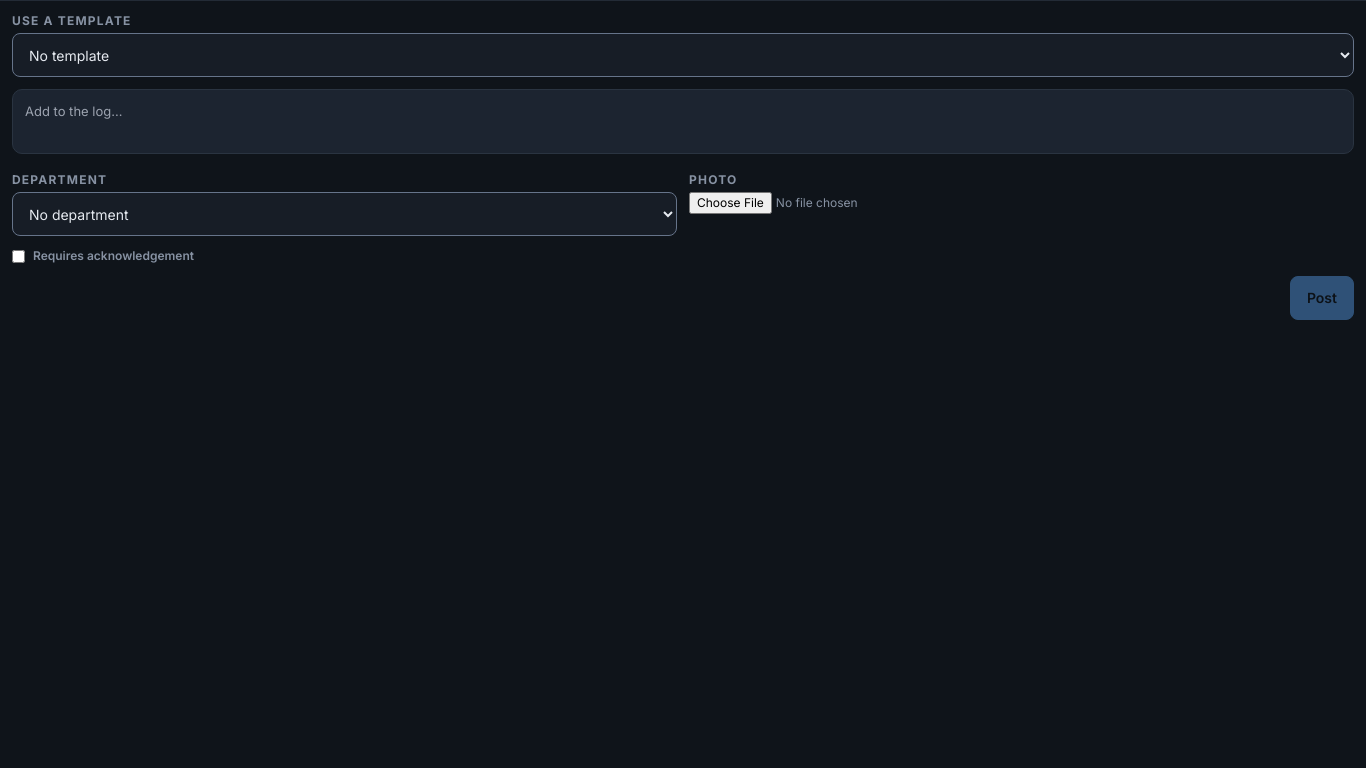
Test: LogComposer with templates › renders each field type once a template is chosen, and clears it again
The image size is (1366, 768).
Select "Night Audit" in the dropdown labelled "Use a template". click: [683, 55]
box: [12,33,1354,77]
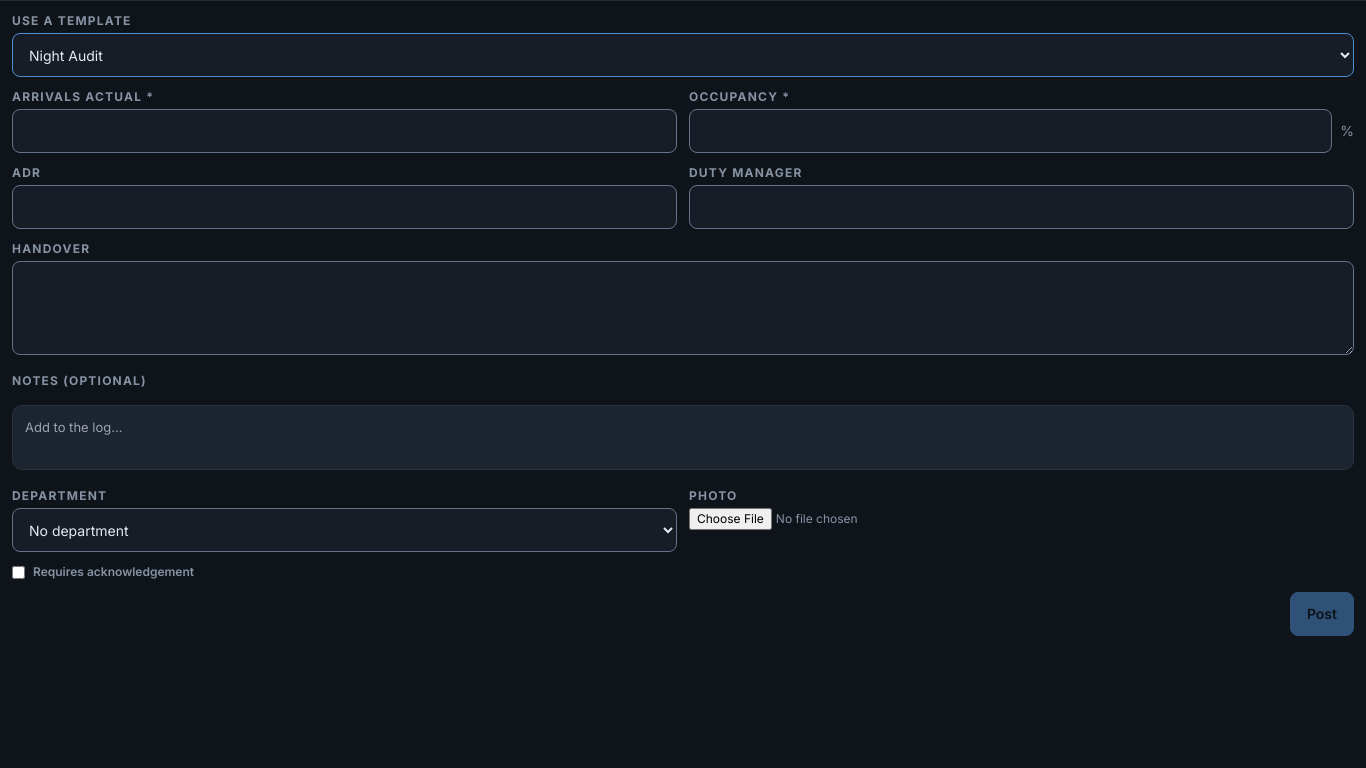
Check: the text "%" is shown, box [1340,121,1354,141]
Select "No template" in the dropdown labelled "Use a template". click: [683, 55]
box: [12,33,1354,77]
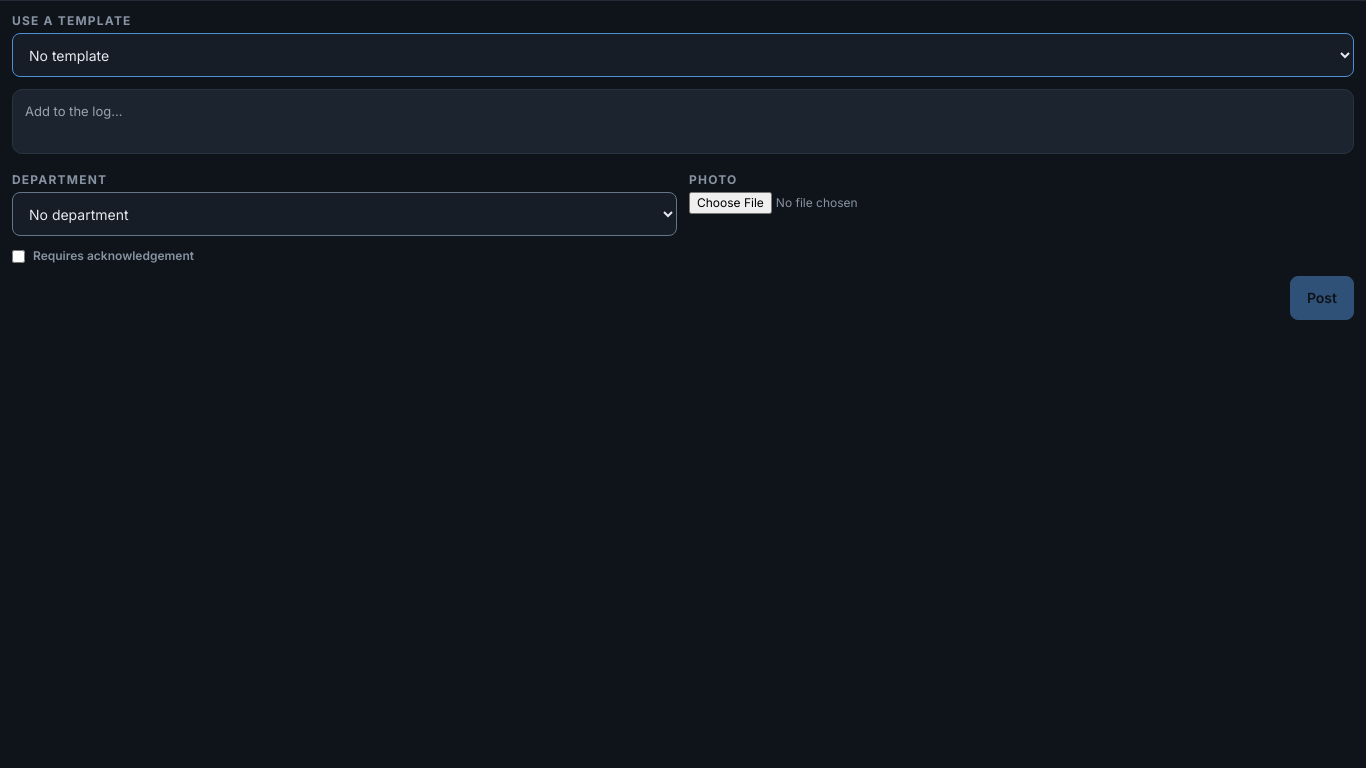
Check: the label labelled "Arrivals actual" is gone
Check: the label labelled "Notes (optional)" is gone
